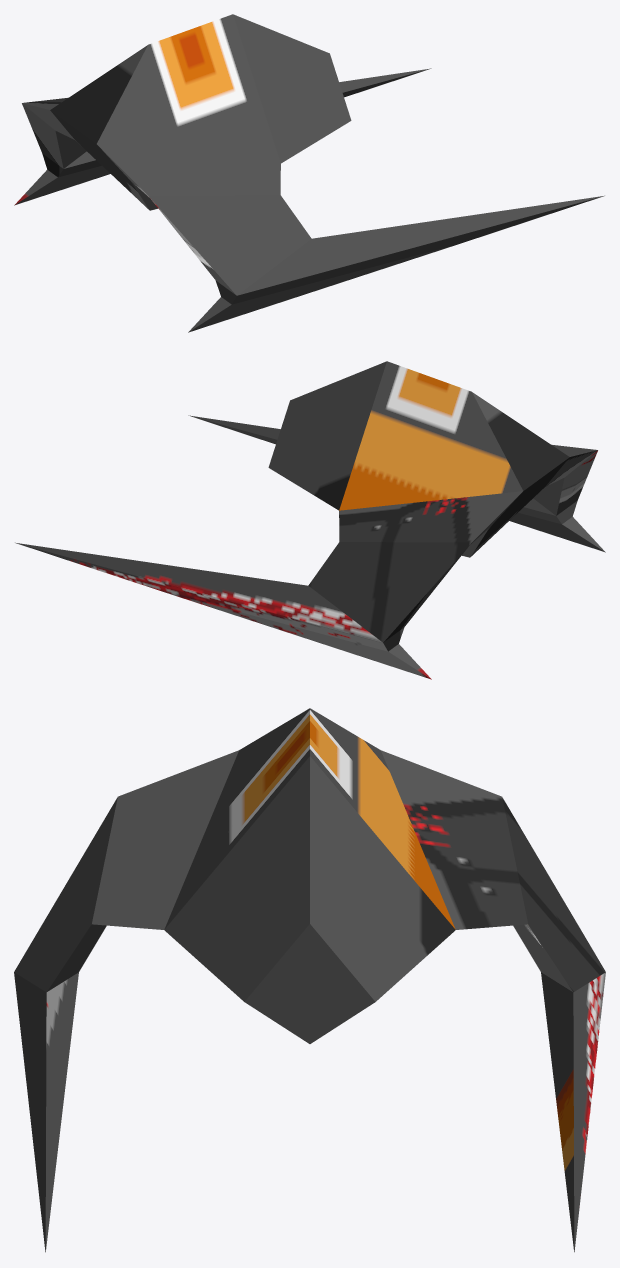
Rendered from Swarmer.fbx.
3 views of the same model, one above another, from view 1: azimuth 30°, elevation 25°; view 2: azimuth 150°, elevation 25°; view 3: azimuth 270°, elevation 25° (orthographic). The views are drawn at different scales.
Parts seen in each view (by area): view 1: pCone3; view 2: pCone3; view 3: pCone3.
Part boxes in pixels (x1,y1,x2,y2): pCone3: (14,14,604,332); pCone3: (15,361,605,679); pCone3: (14,708,605,1252).
Size of the model in its own units: 12.14 by 5.8 by 9.18.
